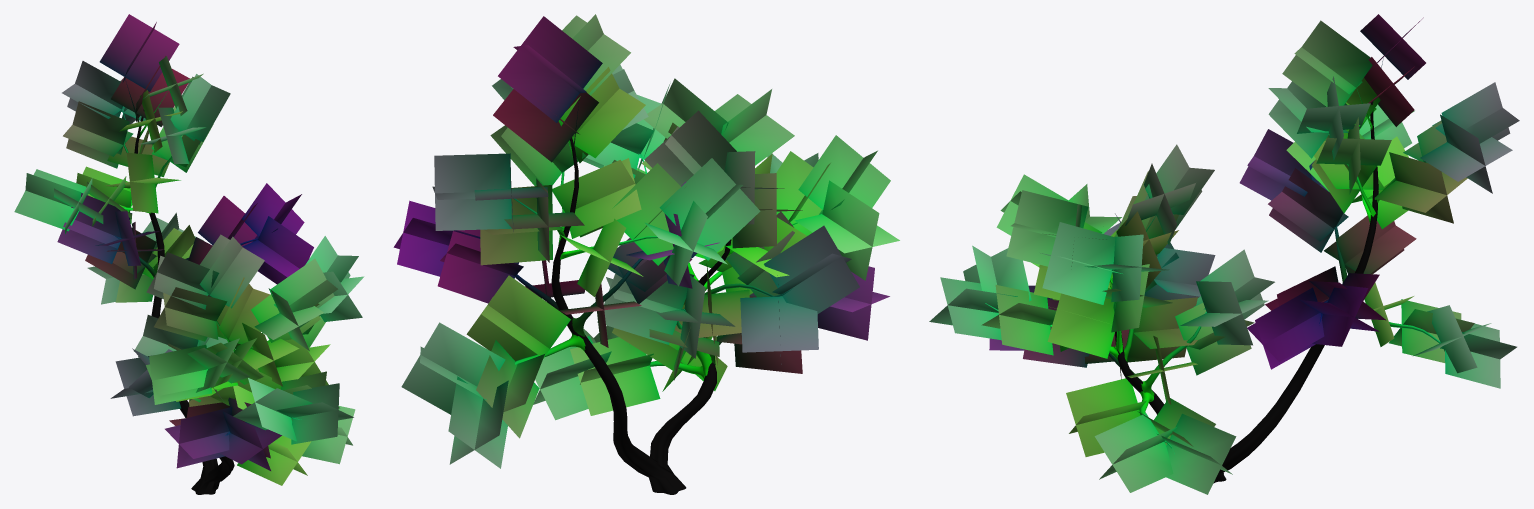
The model's file is M_P3_Tree_7.fbx.
3 views of the same model, side by side, from view 1: azimuth 30°, elevation 25°; view 2: azimuth 150°, elevation 25°; view 3: azimuth 270°, elevation 25° (orthographic). The views are drawn at different scales.
Parts seen in each view (by area): view 1: Tree_7; view 2: Tree_7; view 3: Tree_7.
Part boxes in pixels (box(x1,y1,x2,y2)): Tree_7: box(14, 14, 364, 494); Tree_7: box(393, 14, 899, 494); Tree_7: box(929, 14, 1519, 494).
Bounding box in the file's own units: 604 × 864 × 970.
